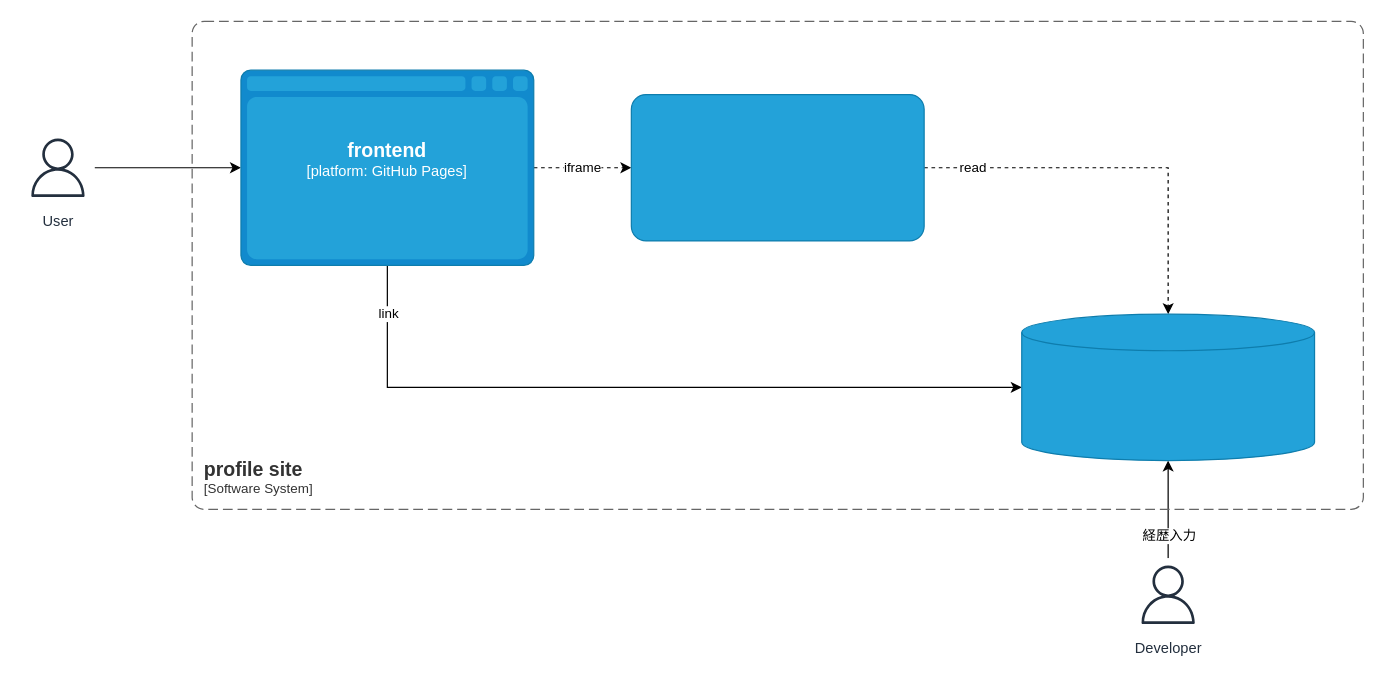
The diagram is 1385 pixels wide and 678 high, and some of its shapes have lost their labels. The box of each missing label's shape, as (x1, y1, x2, y2) in pixels:
project dashboard [platform: Looker Studio]: (630, 93, 924, 241)
職務経歴 [platform: Google Spreadsheet]: (1021, 313, 1315, 461)
